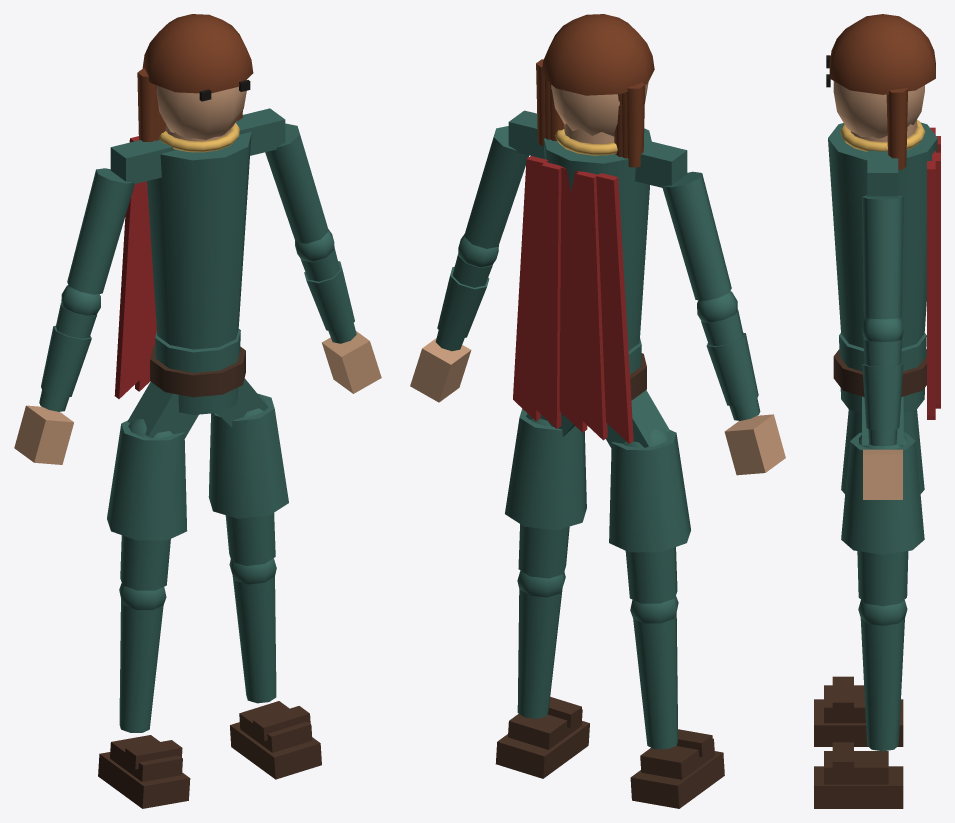
Rendered from iceni-body.glb.
3 renders of one model, left to right at view 1: azimuth 30°, elevation 25°; view 2: azimuth 150°, elevation 25°; view 3: azimuth 270°, elevation 25°, orthographic. The views are drawn at different scales.
Parts seen in each view (by area): view 1: FittedTorso, SplitGarment (×2), HairCrown, CapeFold0, UpperArm-1, Shin-1, Shin1, UpperArm1, ShoulderLink (×2), Face, Waist, Hand-1 (+21 smaller); view 2: SplitGarment (×2), HairCrown, CapeFold0, CapeFold1, CapeFold3, FittedTorso, UpperArm-1, CapeFold4, Shin-1, CapeFold2, Shin1, UpperArm1 (+21 smaller); view 3: FittedTorso, SplitGarment (×2), HairCrown, UpperArm1, Shin1, Sandal1, Face, Thigh1, Bracer1, CapeFold4, Hand1, Waist (+15 smaller).
Boxes of the visible parts, x1,y1,x2,y2 form: FittedTorso: (147, 132, 251, 349); SplitGarment (×2): (107, 393, 288, 540); HairCrown: (142, 14, 253, 93); CapeFold0: (114, 136, 148, 398); UpperArm-1: (67, 168, 134, 294); Shin-1: (119, 599, 163, 732); Shin1: (232, 576, 276, 703); UpperArm1: (265, 123, 328, 243); ShoulderLink (×2): (110, 108, 285, 184); Face: (156, 86, 246, 139); Waist: (155, 329, 240, 414); Hand-1: (14, 405, 73, 464); SplitGarment (×2): (505, 408, 690, 552); HairCrown: (541, 14, 654, 95); CapeFold0: (596, 173, 633, 443); CapeFold1: (576, 171, 607, 440); CapeFold3: (533, 162, 561, 428); FittedTorso: (544, 128, 651, 350); UpperArm-1: (662, 171, 731, 300); CapeFold4: (513, 156, 548, 421); Shin-1: (633, 612, 678, 749); CapeFold2: (559, 167, 587, 432); Shin1: (517, 588, 562, 718); UpperArm1: (464, 126, 529, 248); FittedTorso: (828, 122, 937, 348); SplitGarment (×2): (841, 409, 924, 554); HairCrown: (829, 14, 935, 94); UpperArm1: (862, 195, 903, 319); Shin1: (860, 618, 904, 751); Sandal1: (814, 766, 903, 808); Face: (833, 81, 924, 138); Thigh1: (857, 551, 908, 606); Bracer1: (862, 363, 903, 430); CapeFold4: (927, 161, 935, 419); Hand1: (863, 449, 902, 499); Waist: (839, 333, 926, 413).
Size of the model in its own units: 0.9158 by 1.88 by 0.2885.
